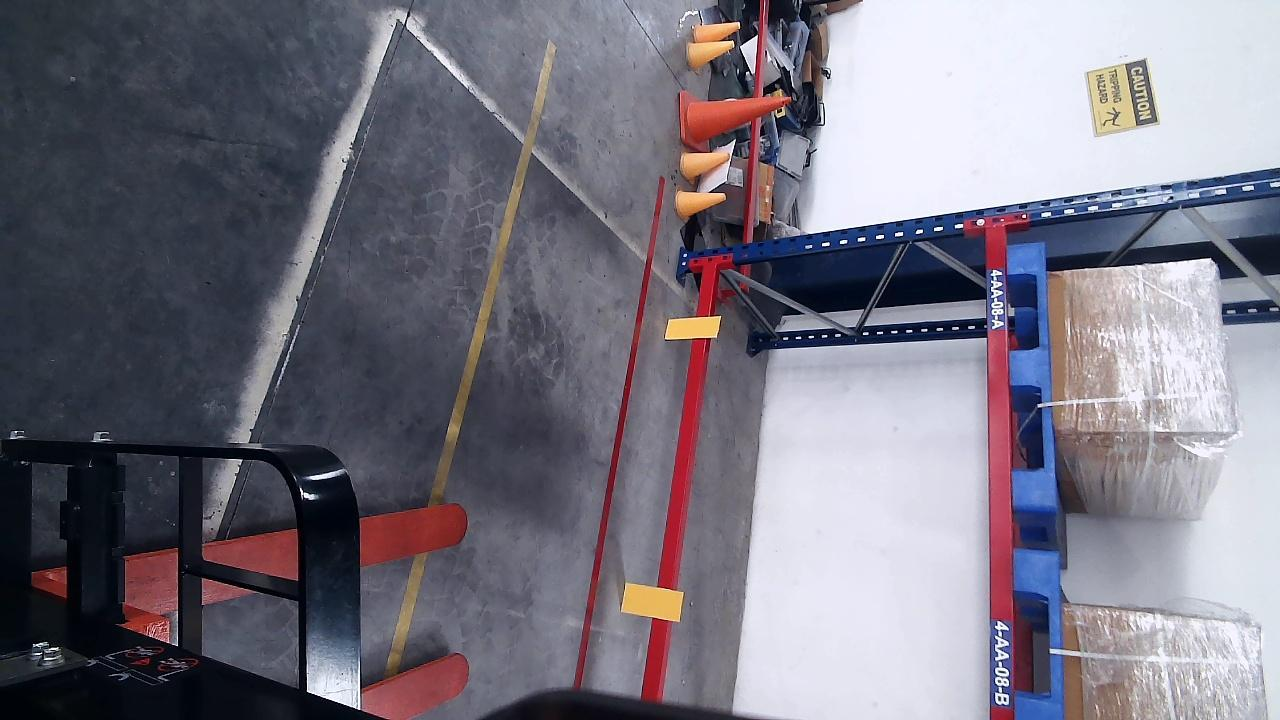h_rack: (639, 263, 717, 701), (985, 224, 1012, 718)
orange_strip: (619, 582, 683, 619), (665, 316, 720, 337)
red_line: (573, 177, 667, 689)
small_pallet: (1006, 245, 1055, 506), (1013, 556, 1066, 719)
yellow_line: (426, 39, 561, 506)
